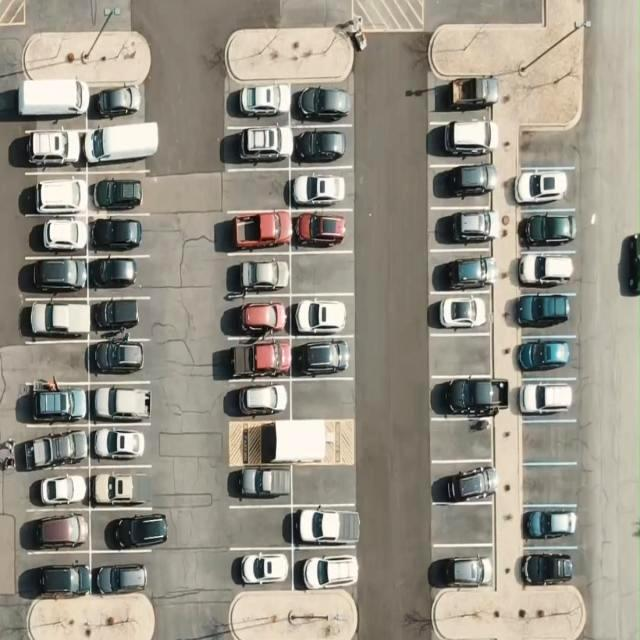space-empty: (23, 340, 90, 385), (429, 416, 494, 461), (225, 505, 291, 548), (290, 252, 353, 296), (222, 168, 288, 210), (429, 333, 493, 376), (291, 461, 353, 505), (291, 377, 354, 420), (431, 503, 494, 546), (516, 420, 578, 463), (517, 125, 577, 167), (520, 464, 578, 506)
space-occupied: (85, 118, 156, 170), (14, 123, 84, 173), (431, 373, 504, 420), (92, 506, 168, 551), (21, 297, 91, 344), (428, 117, 499, 163), (18, 82, 88, 127), (24, 553, 92, 599), (222, 294, 291, 339), (292, 502, 356, 550), (224, 375, 292, 420), (22, 170, 88, 216), (223, 124, 290, 169), (26, 378, 90, 425), (225, 545, 293, 589), (222, 210, 290, 254), (89, 465, 155, 510), (430, 205, 496, 250), (26, 466, 91, 511), (223, 252, 289, 296), (514, 333, 578, 378), (88, 379, 152, 424), (291, 292, 353, 338), (430, 162, 496, 205), (24, 424, 90, 467), (86, 168, 149, 213), (513, 250, 576, 295), (291, 548, 355, 592), (428, 76, 495, 118), (26, 509, 91, 552), (432, 461, 494, 506), (290, 335, 352, 380), (428, 292, 490, 337), (226, 82, 289, 126), (511, 292, 574, 336), (223, 337, 289, 379), (87, 214, 151, 257), (23, 256, 88, 298), (232, 463, 294, 507), (514, 375, 576, 419), (512, 164, 574, 208), (87, 255, 150, 298), (291, 206, 351, 251), (430, 548, 494, 590), (428, 253, 492, 295), (89, 423, 150, 467), (290, 165, 351, 209), (515, 208, 577, 250), (24, 216, 86, 258), (520, 504, 579, 548), (88, 337, 147, 381), (292, 125, 352, 168), (90, 553, 150, 596), (89, 296, 148, 338), (292, 85, 352, 126), (87, 82, 146, 123), (519, 546, 577, 586)
